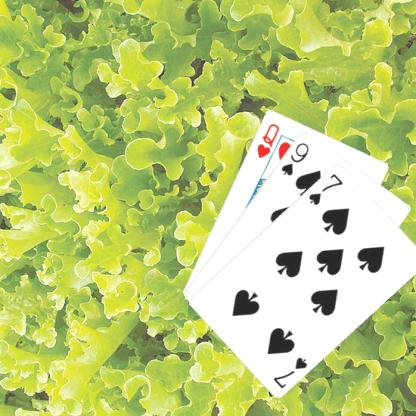7S: (270, 353, 309, 390), (306, 170, 344, 206)
9S: (278, 139, 310, 177)
QH: (254, 120, 281, 160)
